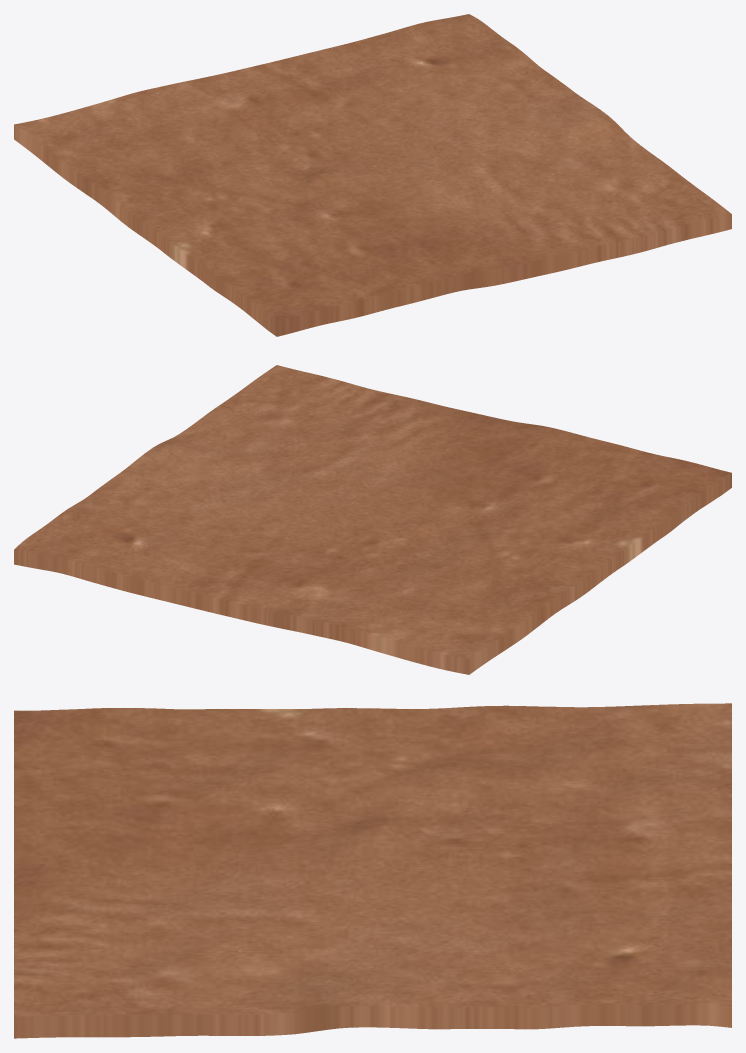
The picture shows the model from 3 angles, top to bottom: view 1: azimuth 30°, elevation 25°; view 2: azimuth 150°, elevation 25°; view 3: azimuth 270°, elevation 25°; orthographic projection. The views are drawn at different scales.
Visible parts, largest first — view 1: L8_149_89; view 2: L8_149_89; view 3: L8_149_89.
Part boxes in pixels (left/top/right/bottom): L8_149_89: left=14, top=14, right=731, bottom=336; L8_149_89: left=14, top=365, right=731, bottom=674; L8_149_89: left=14, top=703, right=731, bottom=1038.
Size of the model in its own units: 56.27 by 3.17 by 56.28.
1 material, 1 textured.
